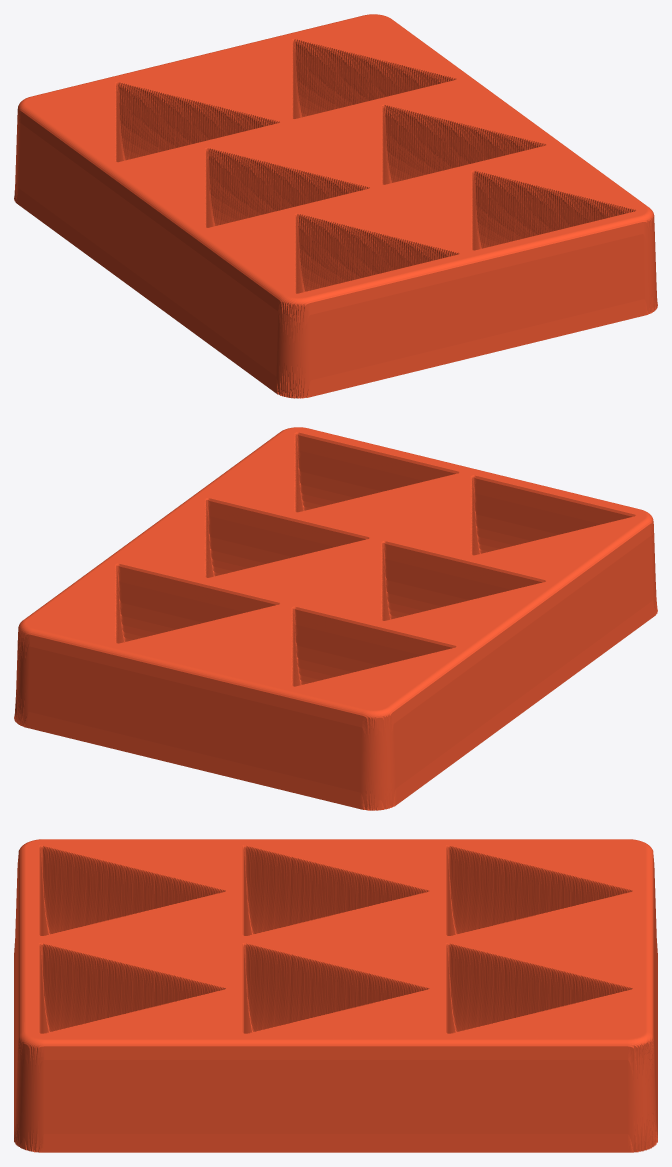
The model's file is mold.glb.
3 renders of one model, top to bottom at view 1: azimuth 30°, elevation 25°; view 2: azimuth 150°, elevation 25°; view 3: azimuth 270°, elevation 25°, orthographic. The views are drawn at different scales.
Parts seen in each view (by area): view 1: geometry_0; view 2: geometry_0; view 3: geometry_0.
Part boxes in pixels (bbox=[...]): geometry_0: bbox=[14, 14, 657, 398]; geometry_0: bbox=[14, 427, 657, 810]; geometry_0: bbox=[14, 839, 657, 1152].
Size of the model in its own units: 0.1492 by 0.036 by 0.1937.
